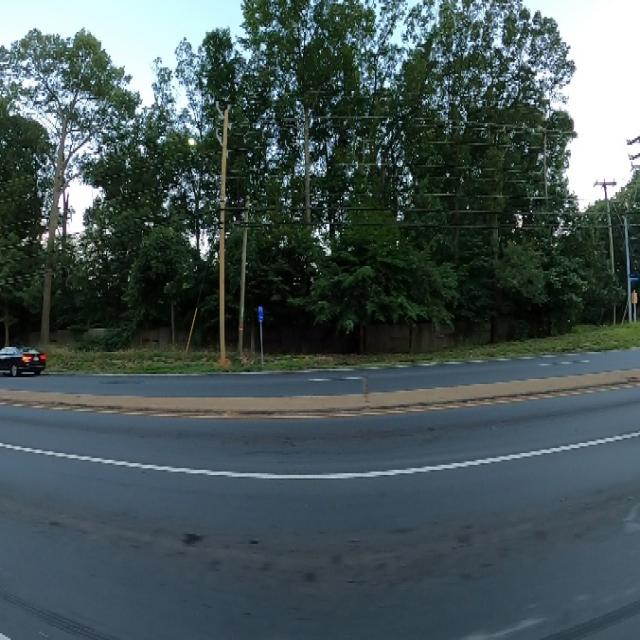car: (0, 330, 47, 382)
